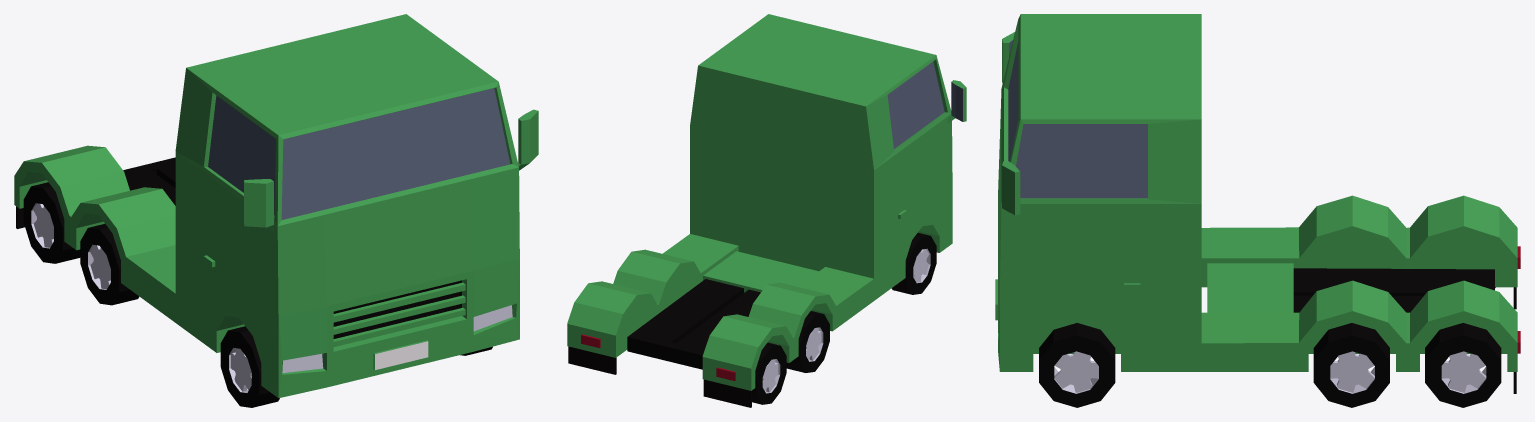
File: delivery.glb
3 views of the same model, side by side, from view 1: azimuth 30°, elevation 25°; view 2: azimuth 150°, elevation 25°; view 3: azimuth 270°, elevation 25° (orthographic). The views are drawn at different scales.
Visible parts, largest first — view 1: body; view 2: body; view 3: body.
Boxes of the visible parts, x1=… form: body: x1=14, y1=14, x2=538, y2=407; body: x1=567, y1=14, x2=966, y2=407; body: x1=995, y1=14, x2=1520, y2=407.
Size of the model in its own units: 3.41 by 3.21 by 5.38.
